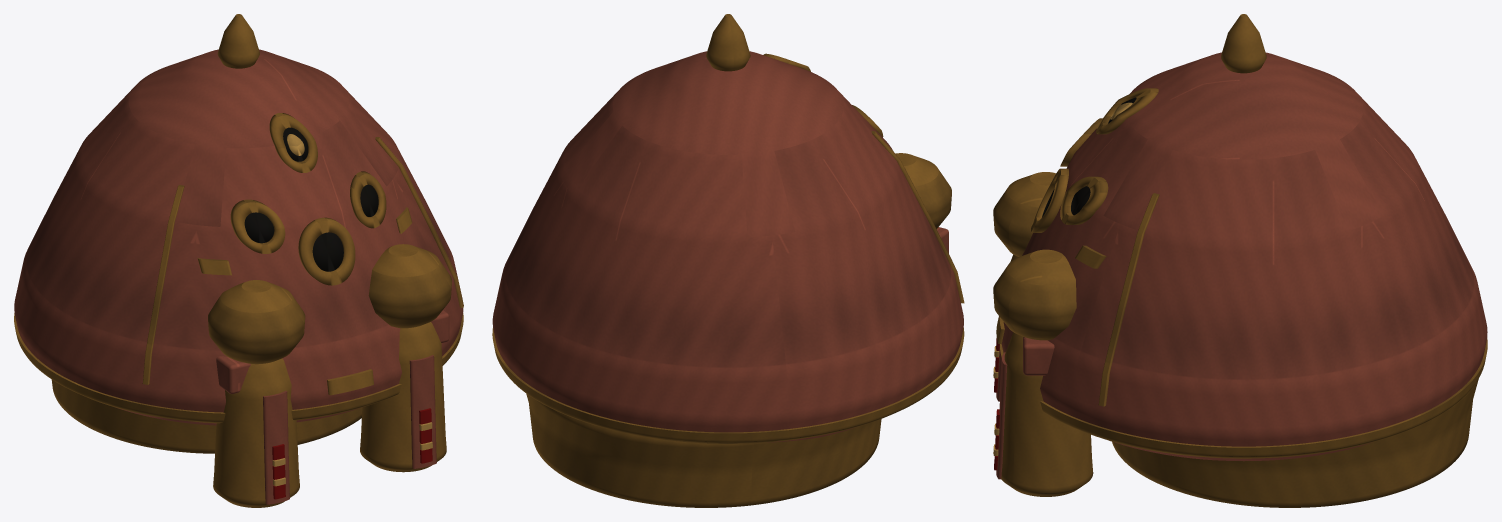
3 renders of one model, left to right at view 1: azimuth 30°, elevation 25°; view 2: azimuth 150°, elevation 25°; view 3: azimuth 270°, elevation 25°, orthographic. The views are drawn at different scales.
Visible parts, largest first — view 1: BR07 broad domed hall, BR07 front pillar 0, BR07 front gold globe 0, BR07 front pillar 1, BR07 rear supporting foot, BR07 front gold globe 1, BR07 hall lower gold cornice, BR07 pillar rose field 1, BR07 pillar rose field 0, BR07 hall face gold rim 3, BR07 single upper terminal, BR07 hall face gold rim 1 (+8 smaller); view 2: BR07 broad domed hall, BR07 rear supporting foot, BR07 hall lower gold cornice, BR07 front gold globe 0, BR07 single upper terminal, BR07 hall curved gold division 0; view 3: BR07 broad domed hall, BR07 rear supporting foot, BR07 front pillar 1, BR07 front gold globe 1, BR07 hall lower gold cornice, BR07 front gold globe 0, BR07 single upper terminal, BR07 hall curved gold division 1, BR07 hall face gold rim 2, BR07 hall face gold rim 3, BR07 hall face gold rim 0, BR07 front rose connecting lintel (+1 smaller).
Part boxes in pixels (x1,y1,x2,y2): BR07 broad domed hall: (14,49,463,425); BR07 front pillar 0: (213,358,299,507); BR07 front gold globe 0: (208,280,305,364); BR07 front pillar 1: (360,322,446,472); BR07 rear supporting foot: (51,380,362,453); BR07 front gold globe 1: (368,244,451,328); BR07 hall lower gold cornice: (14,312,463,423); BR07 pillar rose field 1: (409,355,436,468); BR07 pillar rose field 0: (263,391,289,504); BR07 hall face gold rim 3: (298,217,355,285); BR07 single upper terminal: (217,14,259,68); BR07 hall face gold rim 1: (230,199,285,253); BR07 broad domed hall: (492,51,963,442); BR07 rear supporting foot: (526,393,881,507); BR07 hall lower gold cornice: (492,328,964,443); BR07 front gold globe 0: (895,153,951,228); BR07 single upper terminal: (706,14,750,71); BR07 hall curved gold division 0: (871,131,964,303); BR07 broad domed hall: (1001,52,1487,461); BR07 rear supporting foot: (1112,379,1478,507); BR07 front pillar 1: (1001,332,1093,496); BR07 front gold globe 1: (993,249,1076,340); BR07 hall lower gold cornice: (1000,338,1487,458); BR07 front gold globe 0: (993,172,1055,256); BR07 single upper terminal: (1221,14,1266,73); BR07 hall curved gold division 1: (1098,193,1159,406); BR07 hall face gold rim 2: (1060,176,1108,224); BR07 hall face gold rim 3: (1031,168,1068,232); BR07 hall face gold rim 0: (1096,88,1158,134); BR07 front rose connecting lintel: (1023,337,1054,375).
Size of the model in its own units: 2.12 by 2.05 by 2.15.
5 materials, 5 textured.
